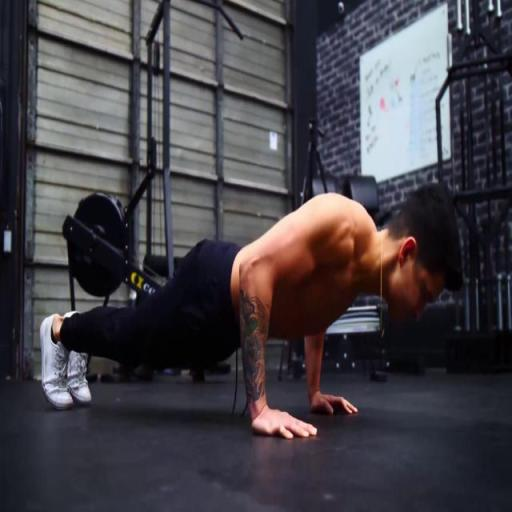Normal_BrenchPress: (42, 184, 465, 440)
